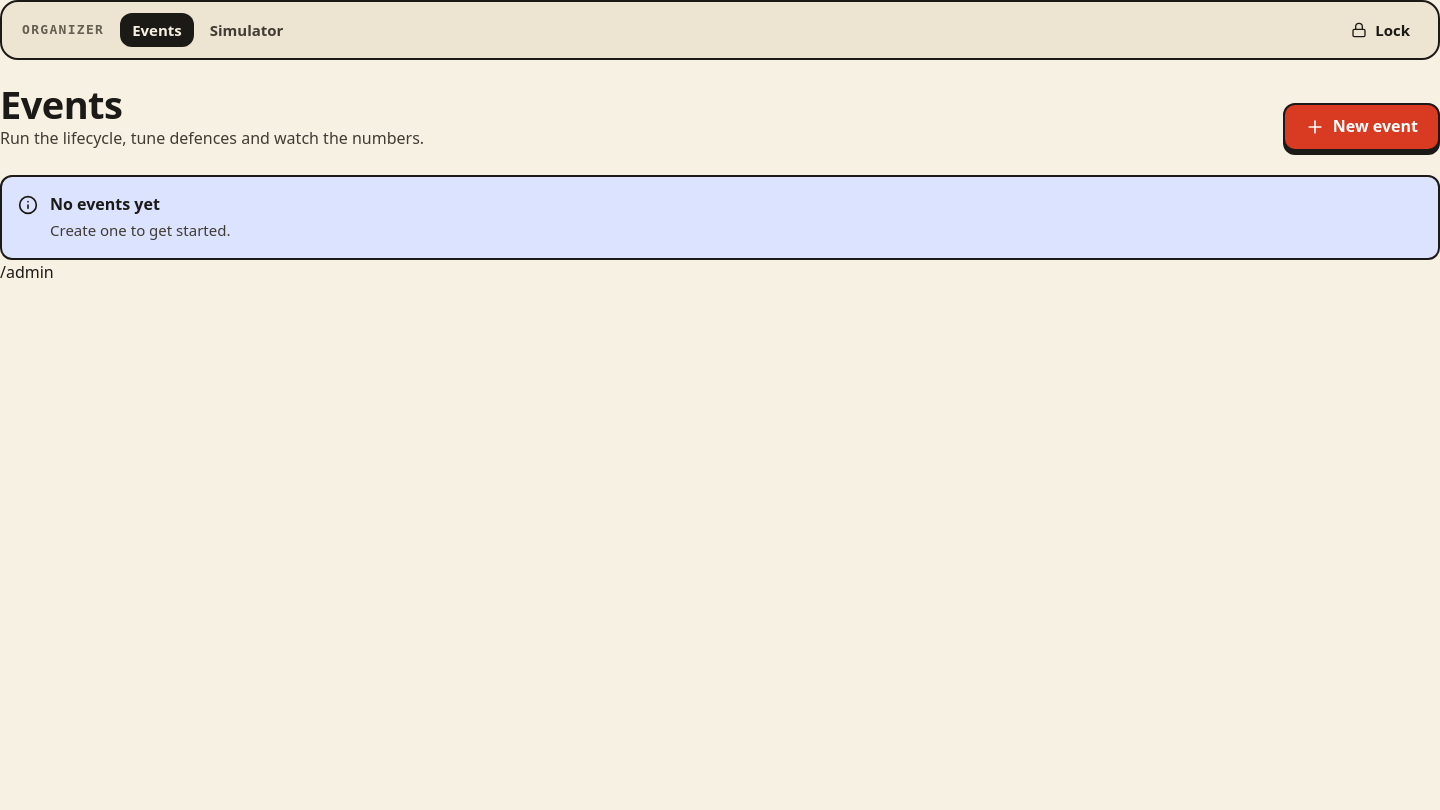
Test: unlock gate › Lock forgets the token
Click the button "Lock" at (1381, 30), box top-left (1335, 10), bottom-right (1426, 50)
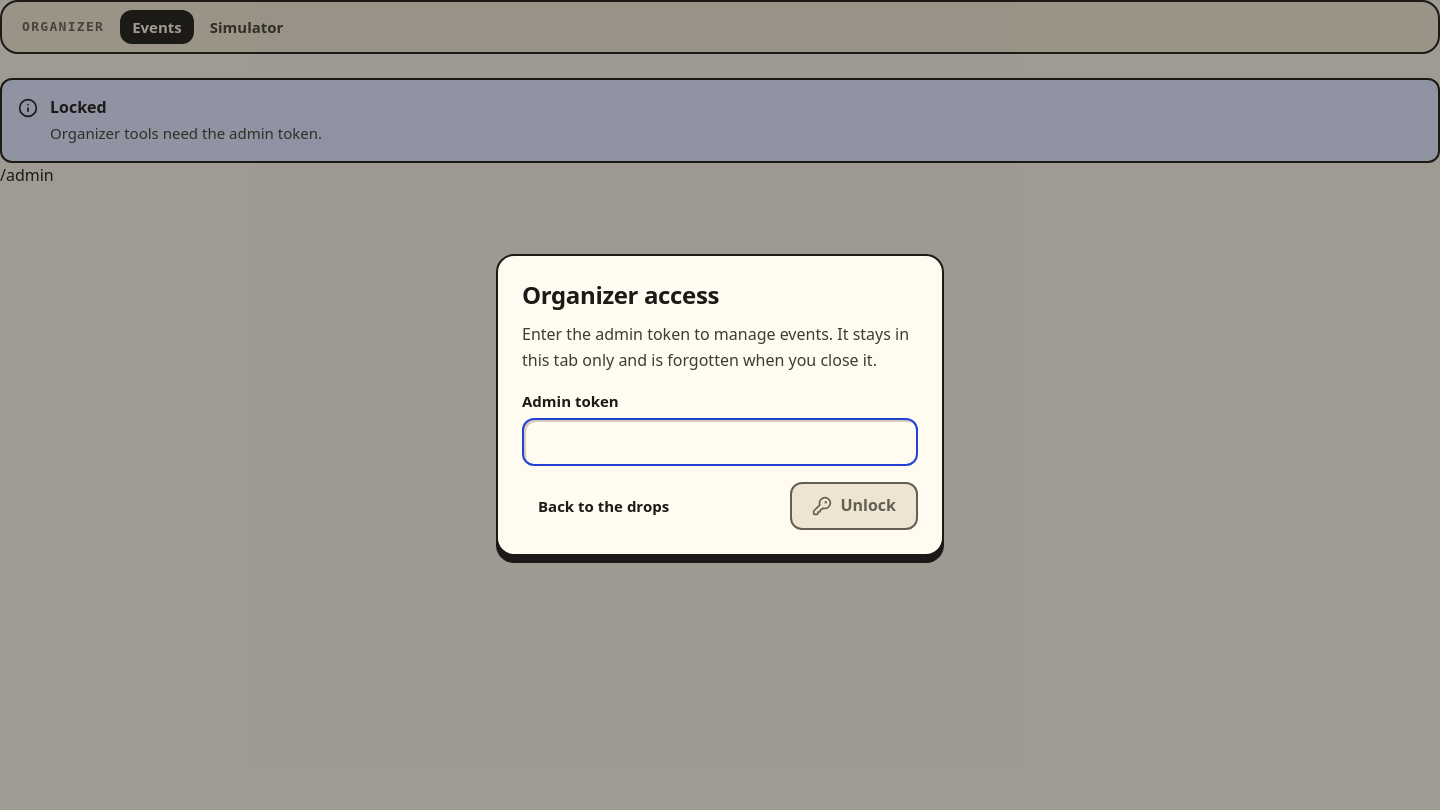
Now the dialog "Organizer access" is shown, box top-left (496, 254), bottom-right (944, 556)
